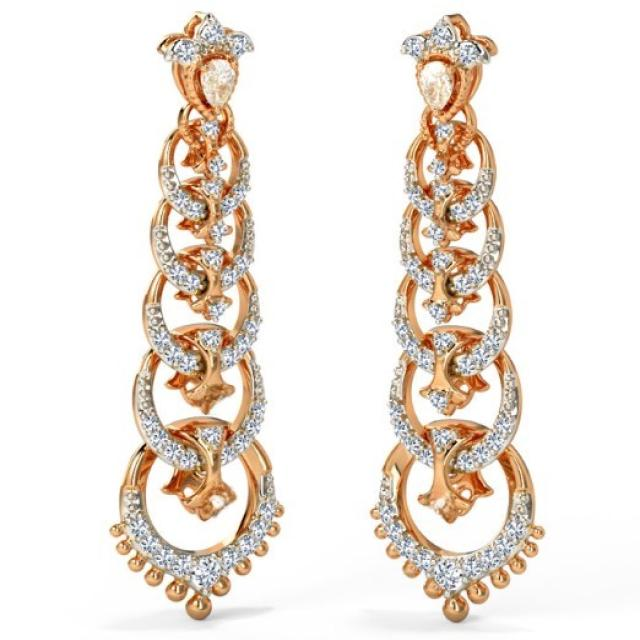missing gem: (379, 469, 399, 521), (198, 381, 228, 412)
